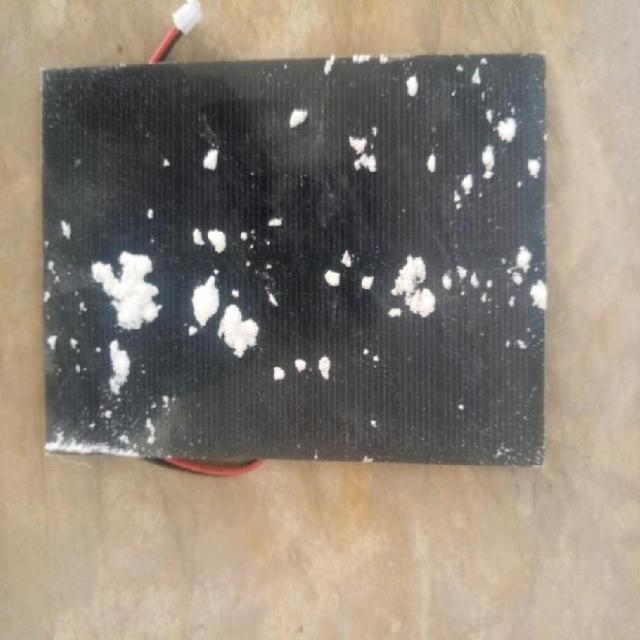faulty: (45, 72, 551, 462)
